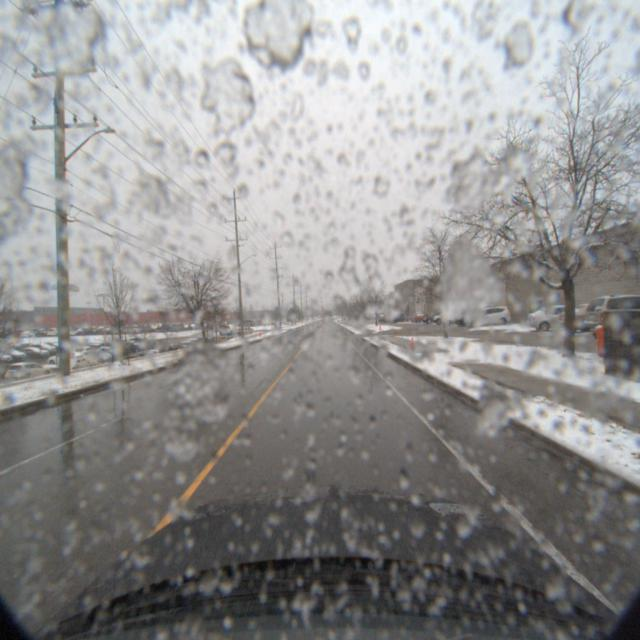Car: (548, 300, 636, 332), (520, 302, 596, 332), (460, 305, 512, 327)
